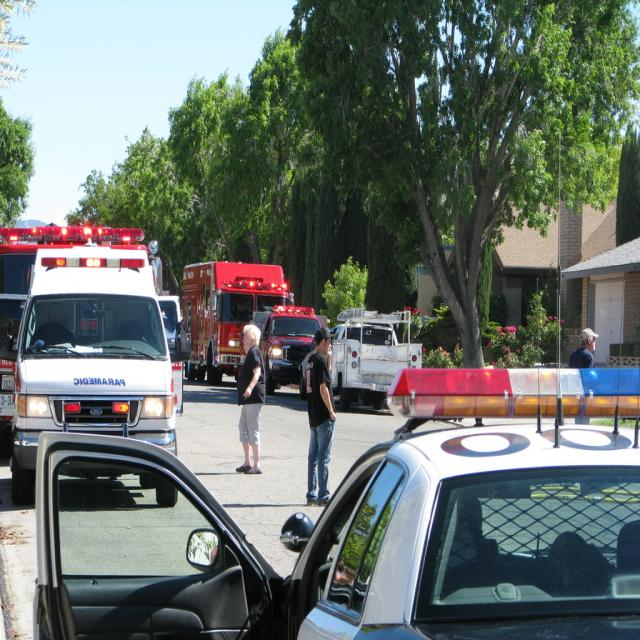Ambulance: (11, 246, 192, 509)
